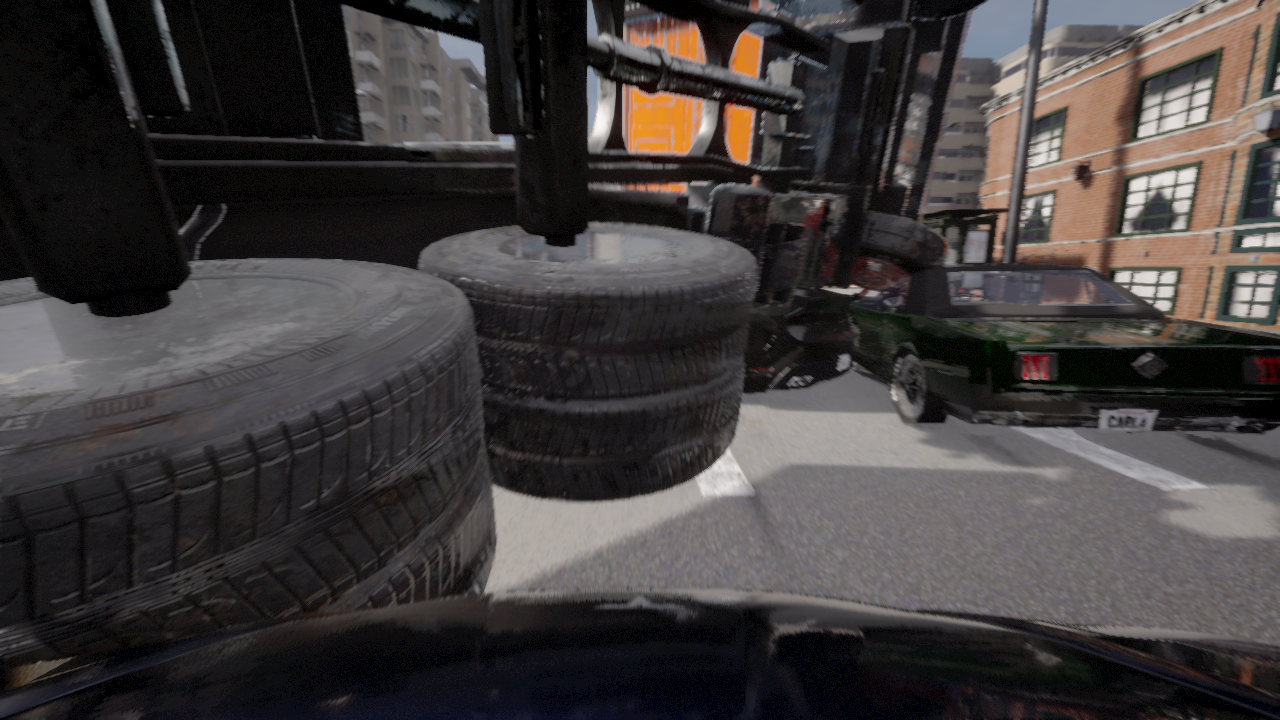cyclist: (0, 588, 1279, 719), (849, 263, 1279, 433), (742, 289, 859, 392)
